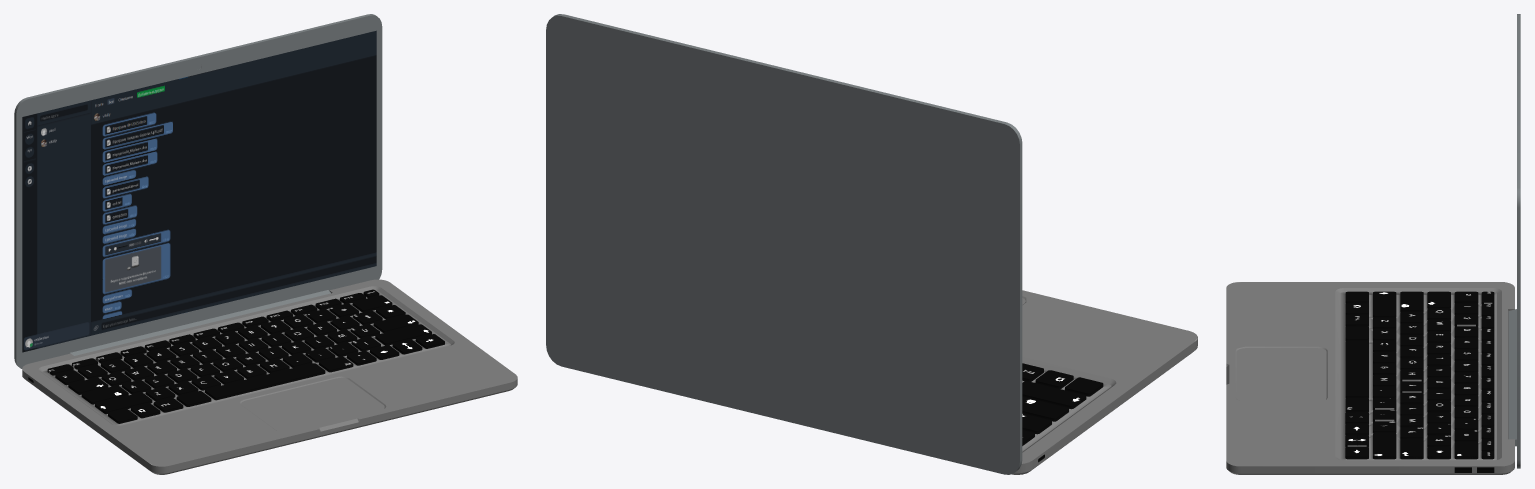
File: discord.glb
3 views of the same model, side by side, from view 1: azimuth 30°, elevation 25°; view 2: azimuth 150°, elevation 25°; view 3: azimuth 270°, elevation 25° (orthographic). The views are drawn at different scales.
Parts seen in each view (by area): view 1: Plane, Frame, Screen; view 2: Screen, Frame; view 3: Frame, Screen.
Part boxes in pixels (box(x1,y1,x2,y2)): Plane: box(22, 30, 376, 352); Frame: box(22, 279, 517, 474); Screen: box(14, 14, 382, 368); Screen: box(546, 14, 1022, 474); Frame: box(1011, 290, 1197, 474); Frame: box(1226, 282, 1514, 474); Screen: box(1508, 14, 1520, 468).
Size of the model in its own units: 28.4 by 20.49 by 19.15.
3 materials, 2 textured.
